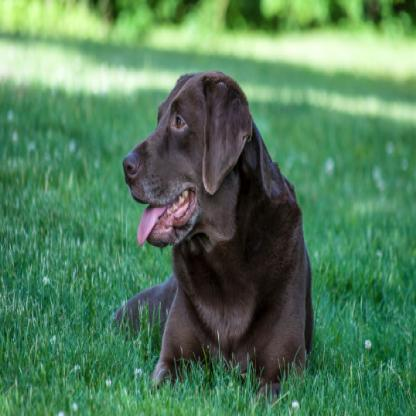dog: (126, 69, 315, 385)
